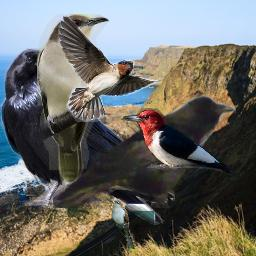Crow: (1, 48, 175, 225), (53, 94, 236, 208)
Cuckoo: (37, 14, 110, 185), (110, 200, 137, 252)
Swallow: (57, 13, 164, 122)
Woodpecker: (120, 108, 240, 180)
